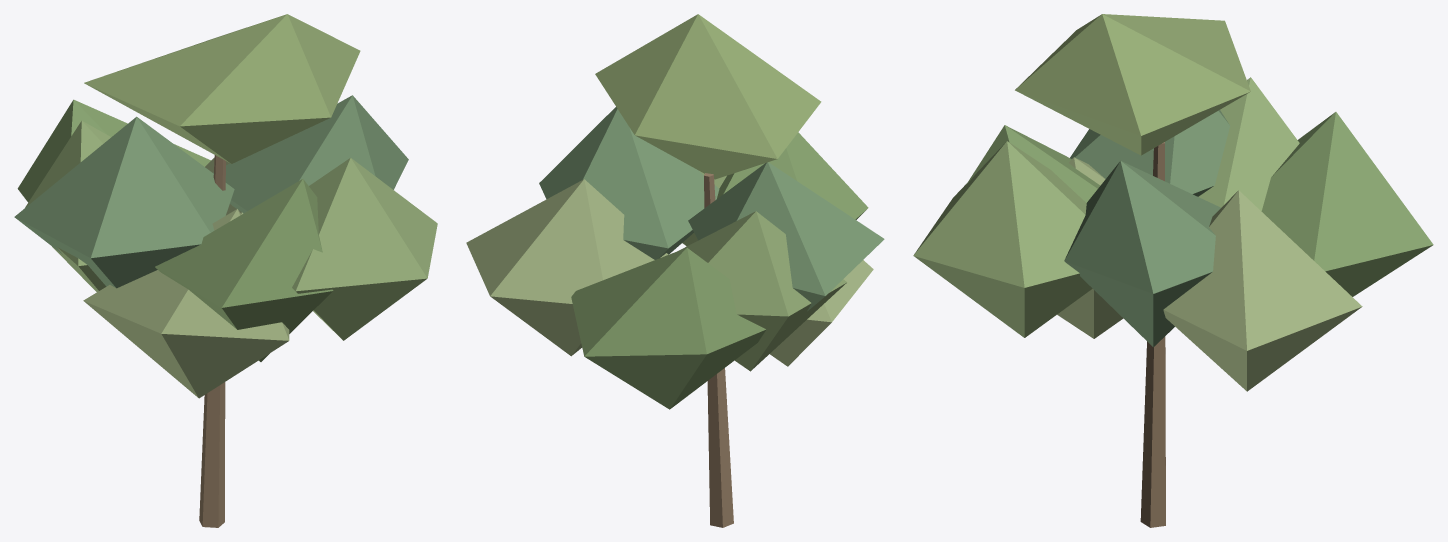
The picture shows the model from 3 angles, left to right: view 1: azimuth 30°, elevation 25°; view 2: azimuth 150°, elevation 25°; view 3: azimuth 270°, elevation 25°; orthographic projection. The views are drawn at different scales.
Size of the model in its own units: 8.53 by 10.94 by 9.67.
